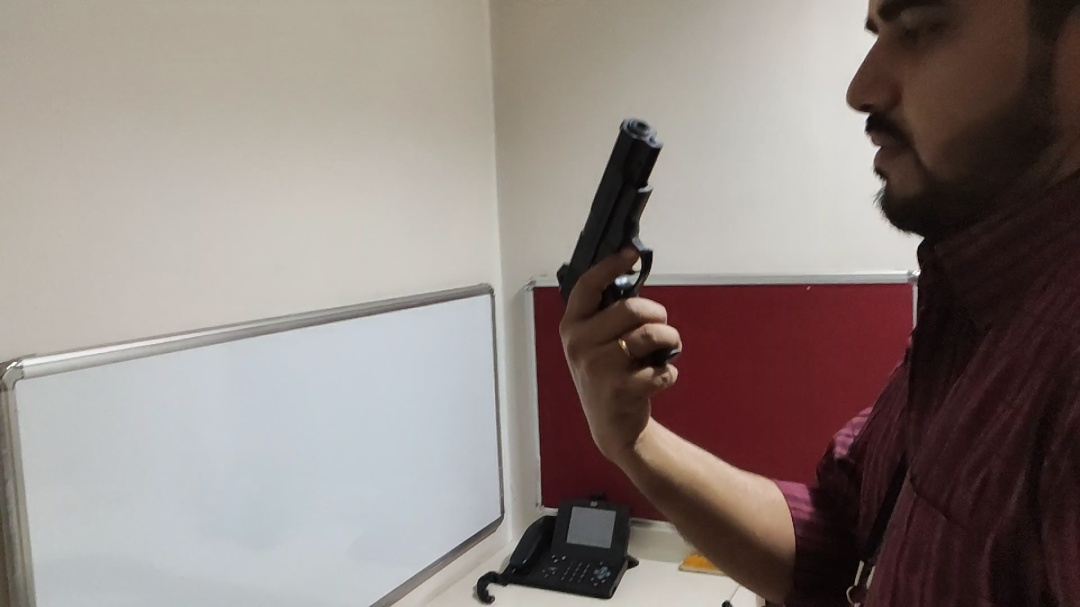gun: (523, 114, 725, 380)
